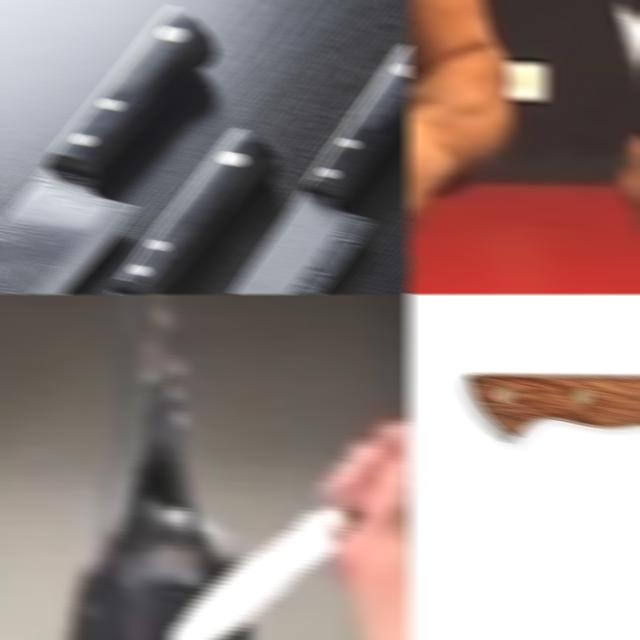Knife: (168, 508, 356, 640), (462, 374, 640, 440), (614, 4, 640, 164)
Knife_Handle: (164, 430, 412, 640)
